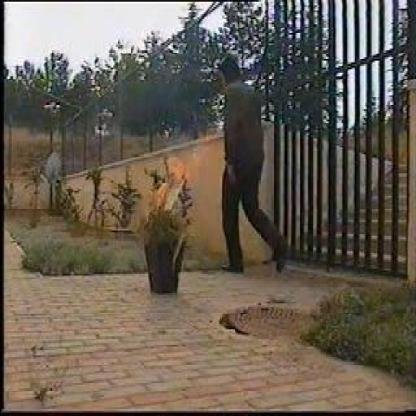foggia-v2-map80-epoch100 - v1 4323: (152, 159, 187, 208)
